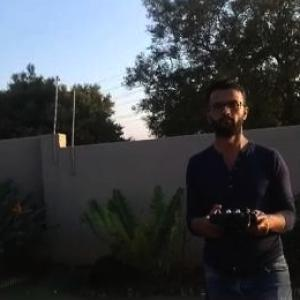follow: (181, 75, 300, 299)
